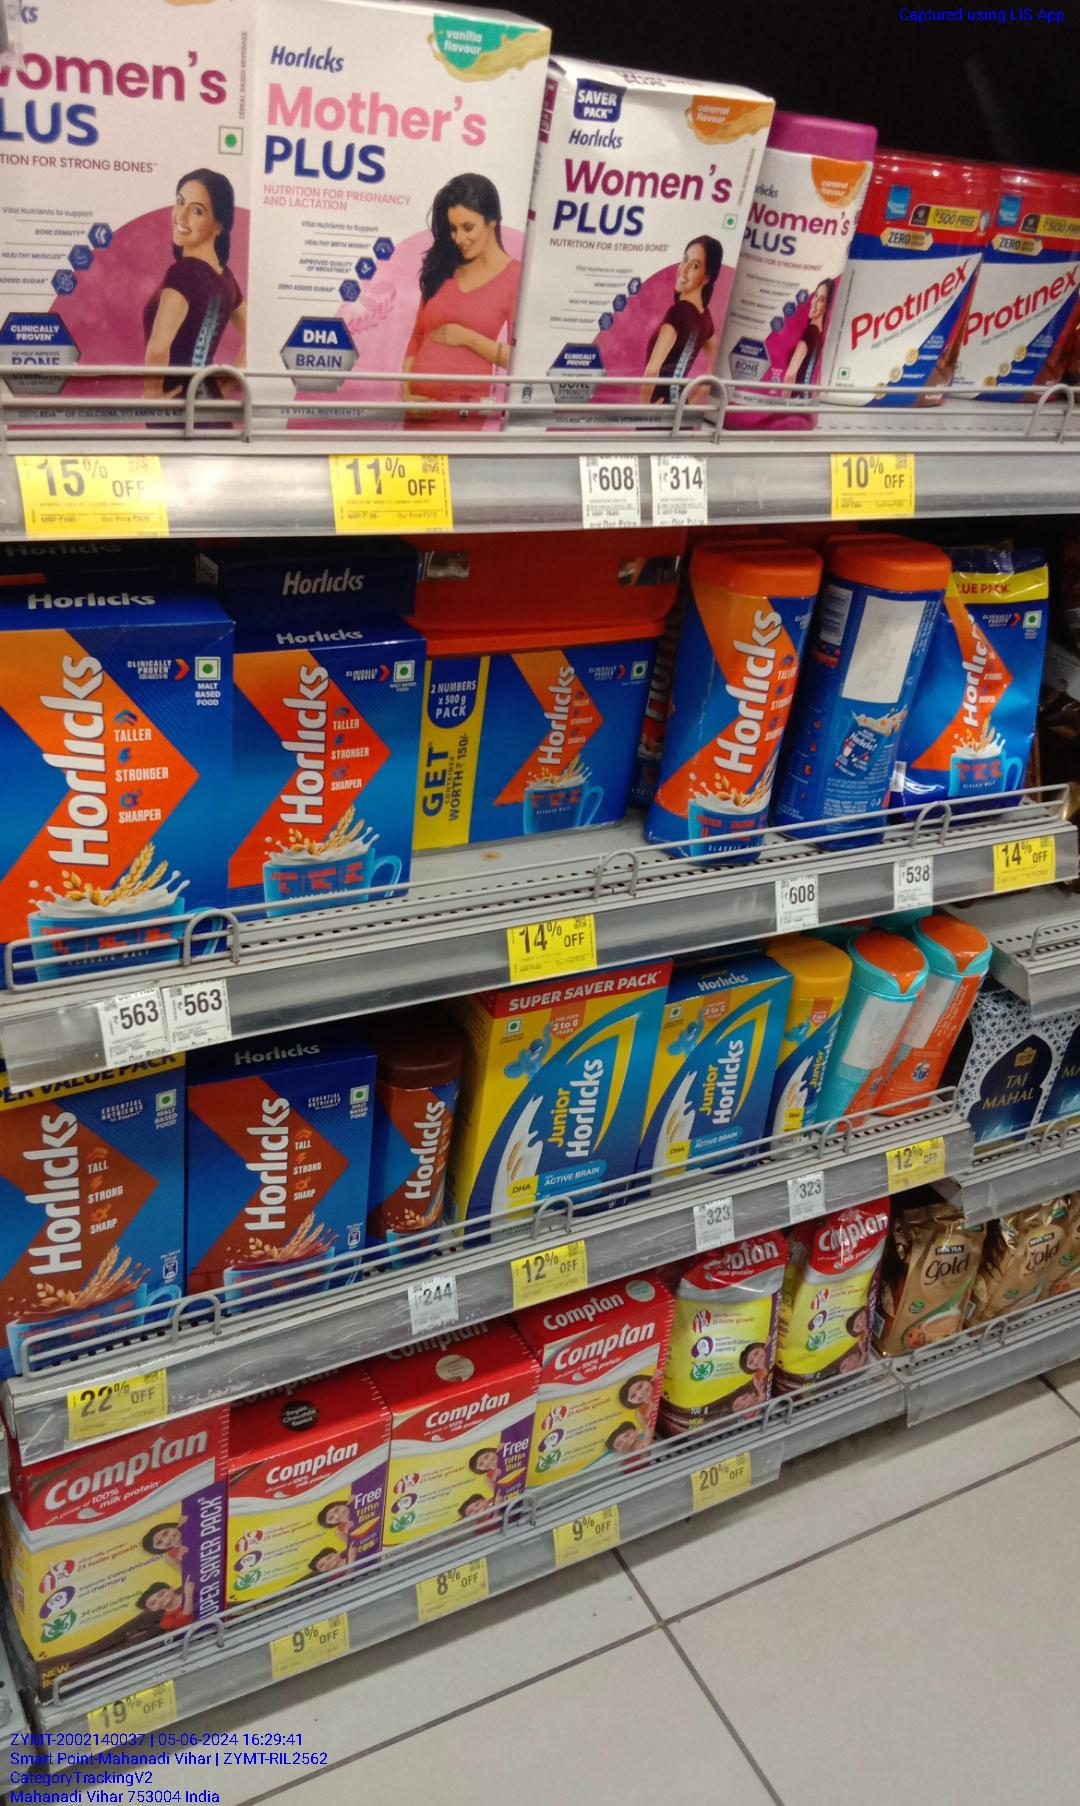COMPLAN_CHOCOLATE_1_KG_PACK: (0, 1054, 183, 1377)
COMPLAN_CHOCOLATE_500_GMS_PACK: (190, 1072, 372, 1292)
COMPLAN_CREAMY_CLASSIC_500_G_PACK: (540, 1330, 653, 1517)
HORLICK_CHOCOLATE_500_G_JAR: (379, 1055, 454, 1258)
HORLICK_CLASSIC_MALT_500_G_JAR: (661, 557, 813, 854)
HORLICK_CLASSIC_MALT_500_G_PACK: (0, 626, 228, 967)
HORLICK_MALT_1_KG_CONTAINER: (422, 641, 642, 833)
